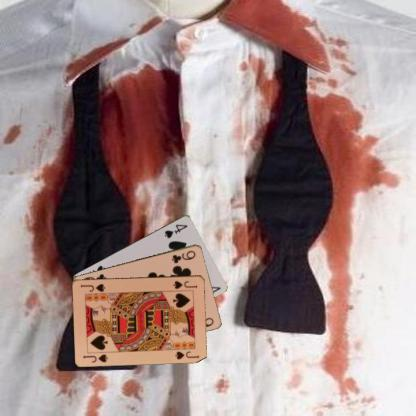4s: (162, 221, 189, 239)
9c: (169, 248, 197, 264)
Js: (81, 352, 109, 364), (171, 278, 198, 290)
